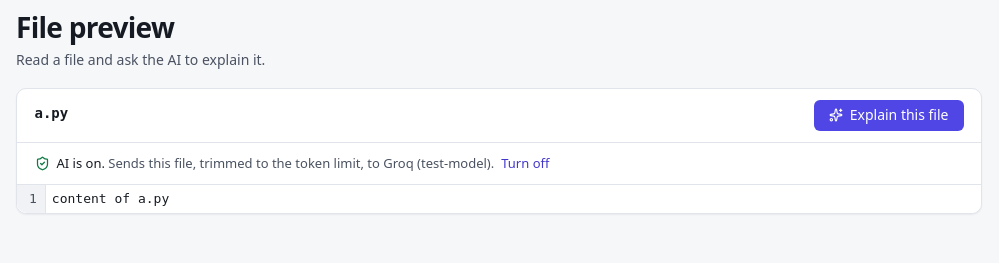
Test: LLM calls are never retried (C4) › file explanation is sent once even on a server error
Step 1. Click the button "Explain this file" → (889,115), box [814, 100, 964, 131]
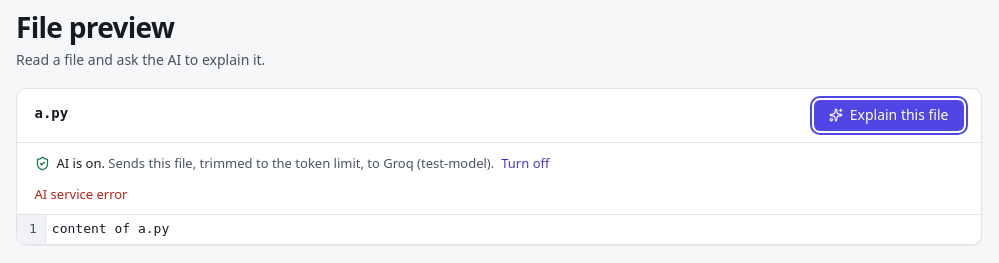
Now the message "AI service error" is shown, box [34, 184, 128, 202]
